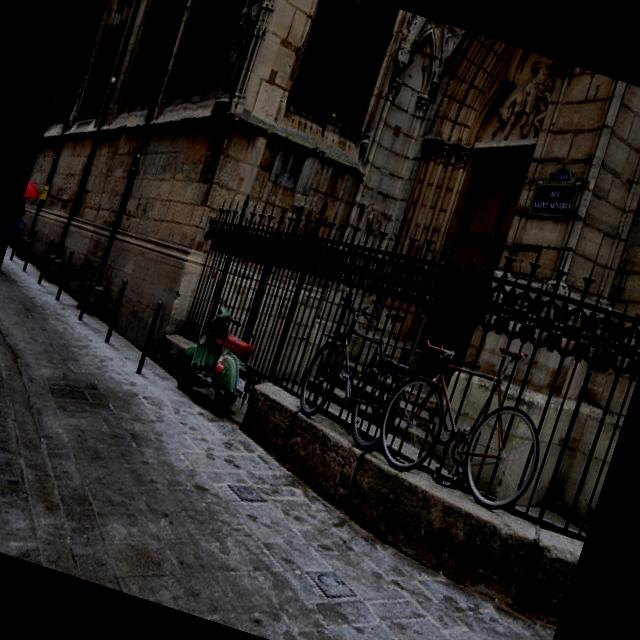Vehicle: (168, 300, 267, 421)
